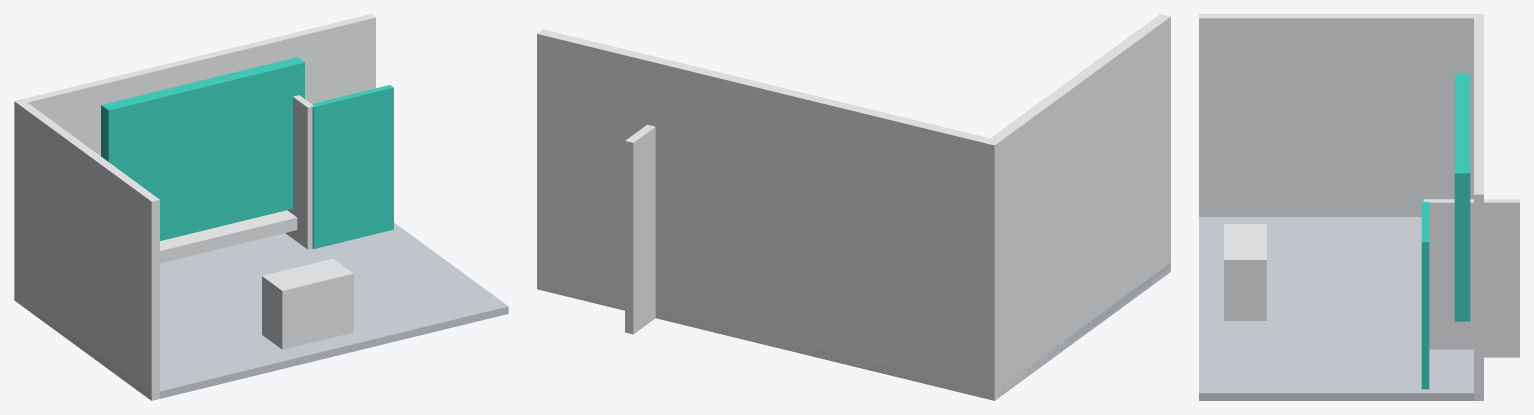
The picture shows the model from 3 angles, left to right: view 1: azimuth 30°, elevation 25°; view 2: azimuth 150°, elevation 25°; view 3: azimuth 270°, elevation 25°; orthographic projection. The views are drawn at different scales.
Visible parts, largest first — view 1: Exhibition Booth Concept; view 2: Exhibition Booth Concept; view 3: Exhibition Booth Concept.
Boxes of the visible parts, <box> form: Exhibition Booth Concept: <box>14,14,508,400</box>; Exhibition Booth Concept: <box>537,14,1170,400</box>; Exhibition Booth Concept: <box>1199,14,1519,400</box>.
Bounding box in the file's own units: 6 × 3.2 × 4.51.
